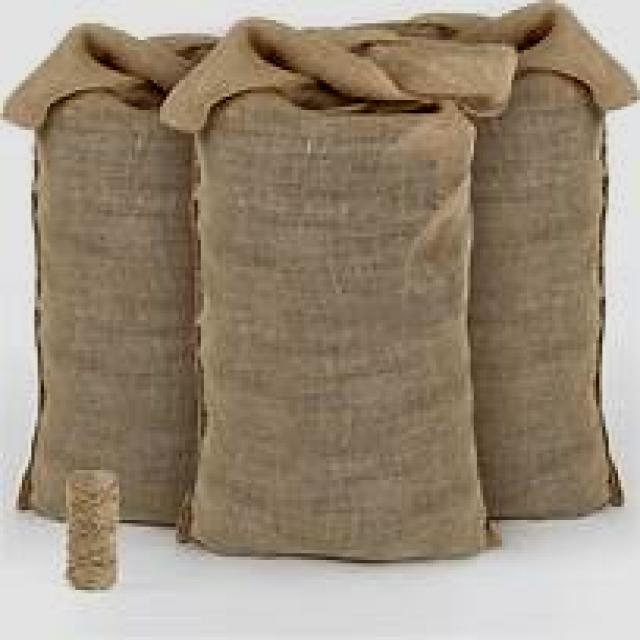gunny_bag: (154, 16, 524, 563), (424, 2, 640, 519), (3, 23, 216, 525)
